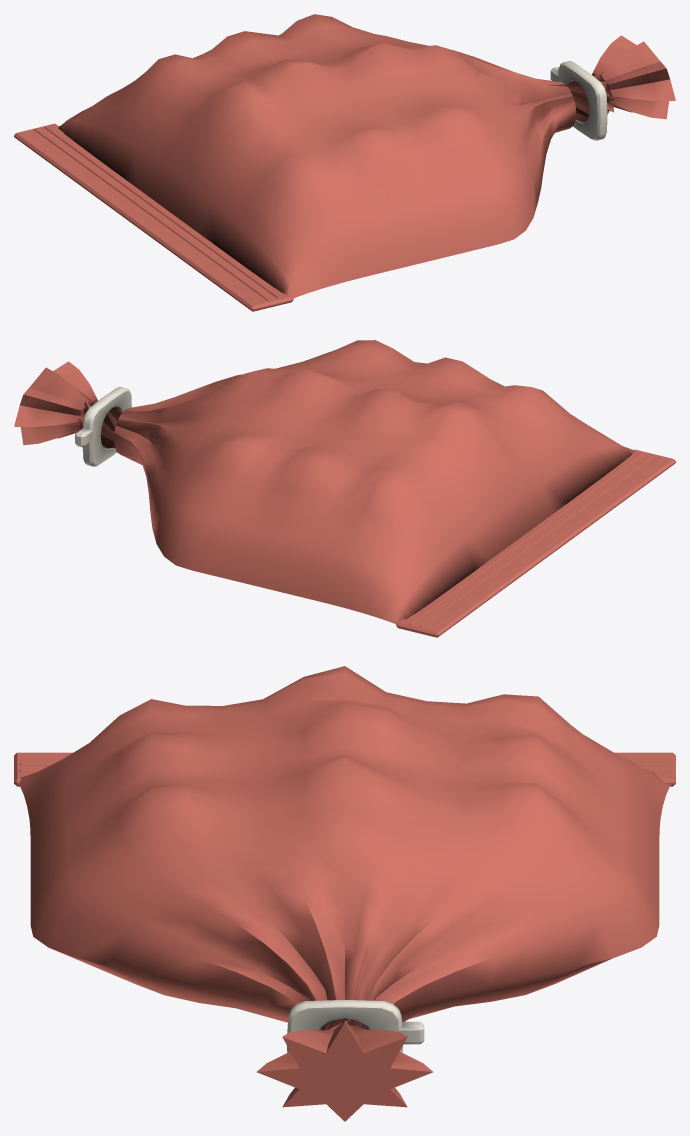
Rendered from food_dumplings.glb.
3 views of the same model, one above another, from view 1: azimuth 30°, elevation 25°; view 2: azimuth 150°, elevation 25°; view 3: azimuth 270°, elevation 25° (orthographic). The views are drawn at different scales.
Visible parts, largest first — view 1: PART; view 2: PART; view 3: PART.
Boxes of the visible parts, x1,y1,x2,y2 form: PART: (14, 14, 675, 311); PART: (14, 340, 675, 637); PART: (14, 666, 675, 1121).
Bounding box in the file's own units: 0.315 × 0.0784 × 0.25.
